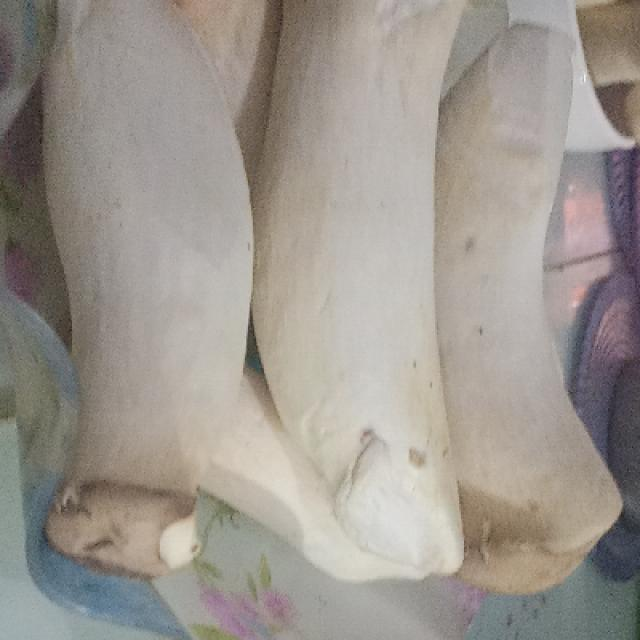Pleurotus eryngii: (35, 0, 257, 567), (252, 0, 463, 588), (431, 26, 626, 594)
